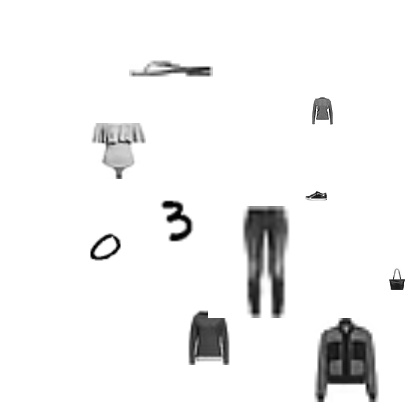0: (83, 226, 125, 268)
3: (149, 191, 205, 247)
Bag: (386, 268, 408, 290)
Coat: (303, 318, 387, 402)
Pullover: (181, 309, 237, 365), (308, 97, 336, 125)
Sandal: (129, 25, 213, 109)
Sneaker: (305, 185, 327, 207)
T-shirt/top: (90, 123, 146, 179)
Trouser: (208, 206, 320, 318)
